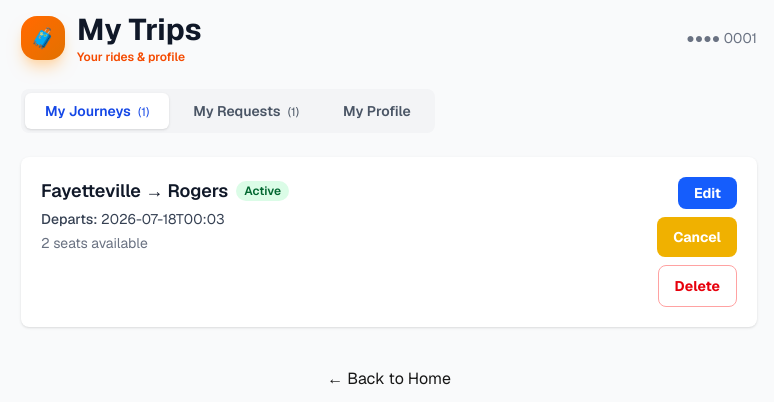
it: MyRidesPage › switches to requests tab
The image size is (774, 402).
Click the button "My Requests (1)" at (246, 110), box [173, 92, 319, 128]
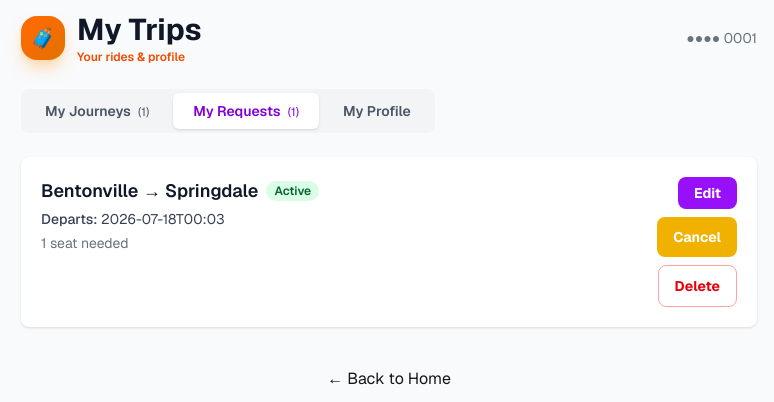
Expected: the text "Bentonville → Springdale" is shown, [41, 176, 258, 204]
